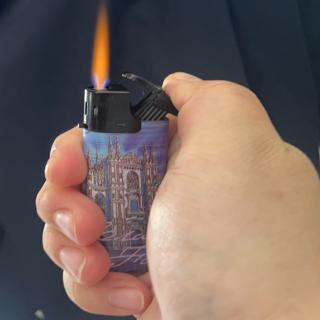fire: (90, 2, 112, 84)
